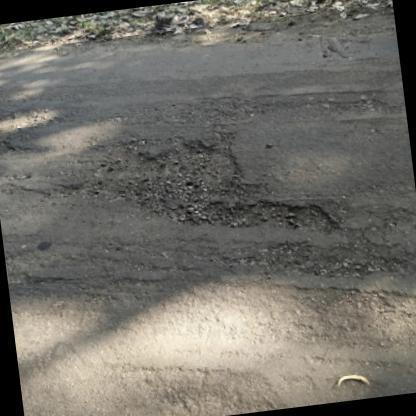pothole: (93, 135, 343, 233)
